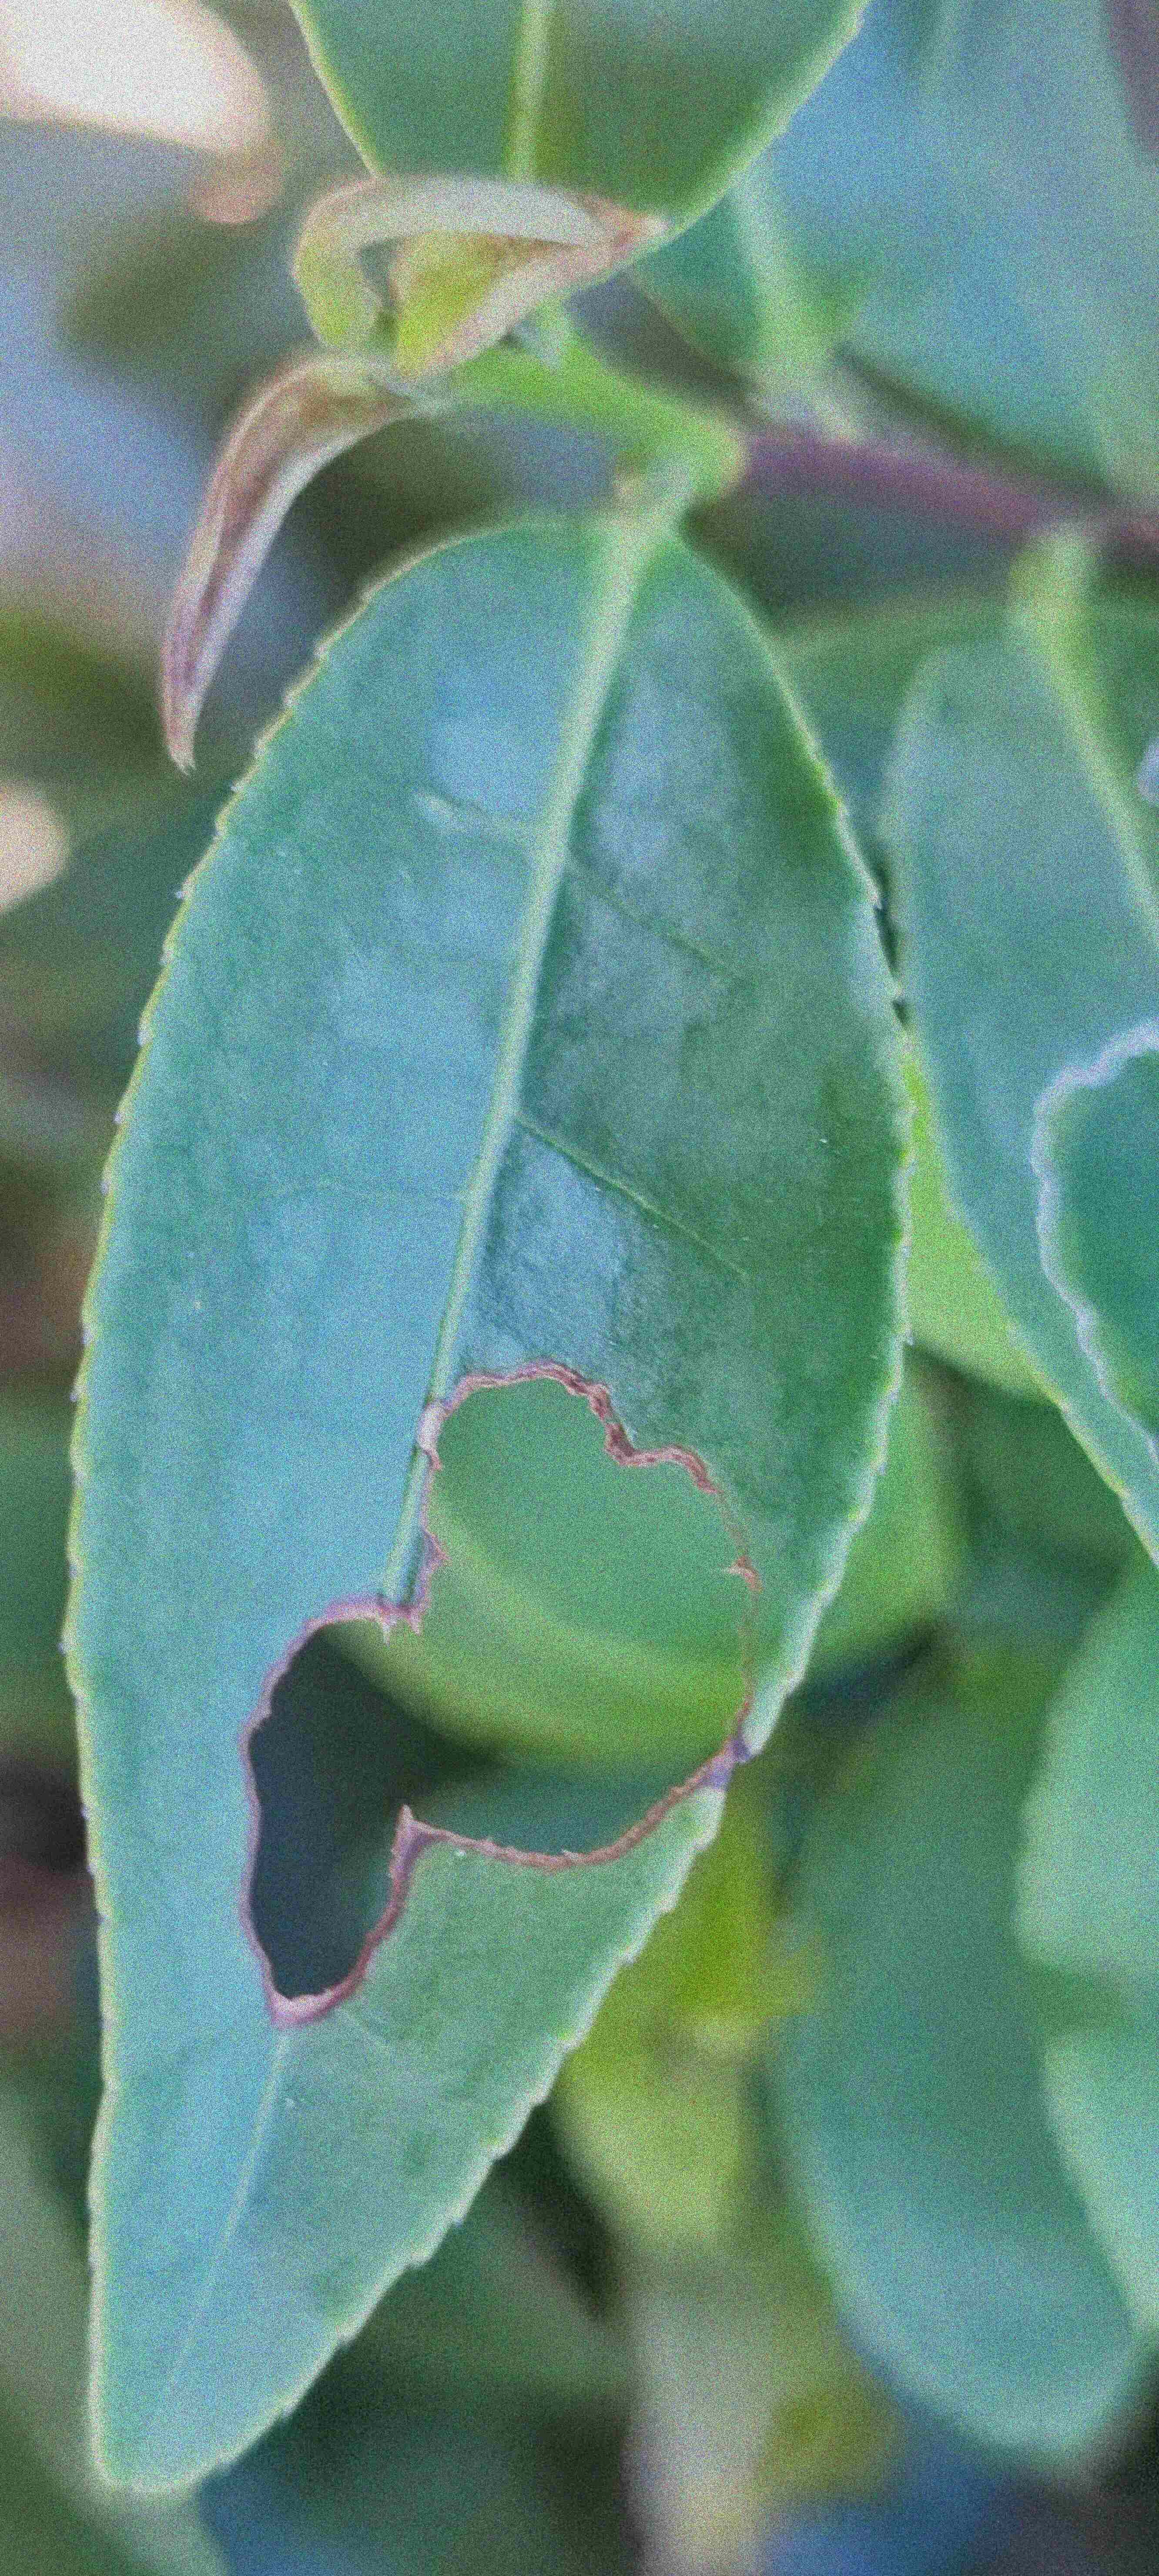chihuo_high: (57, 506, 924, 2491)
